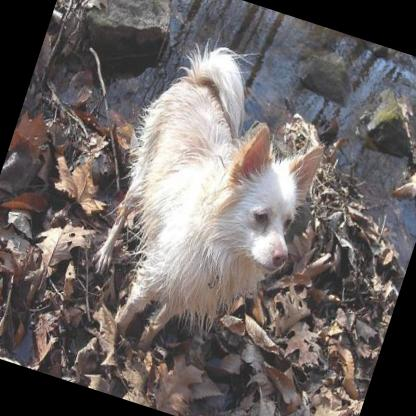Pomeranian: (70, 25, 344, 388)
